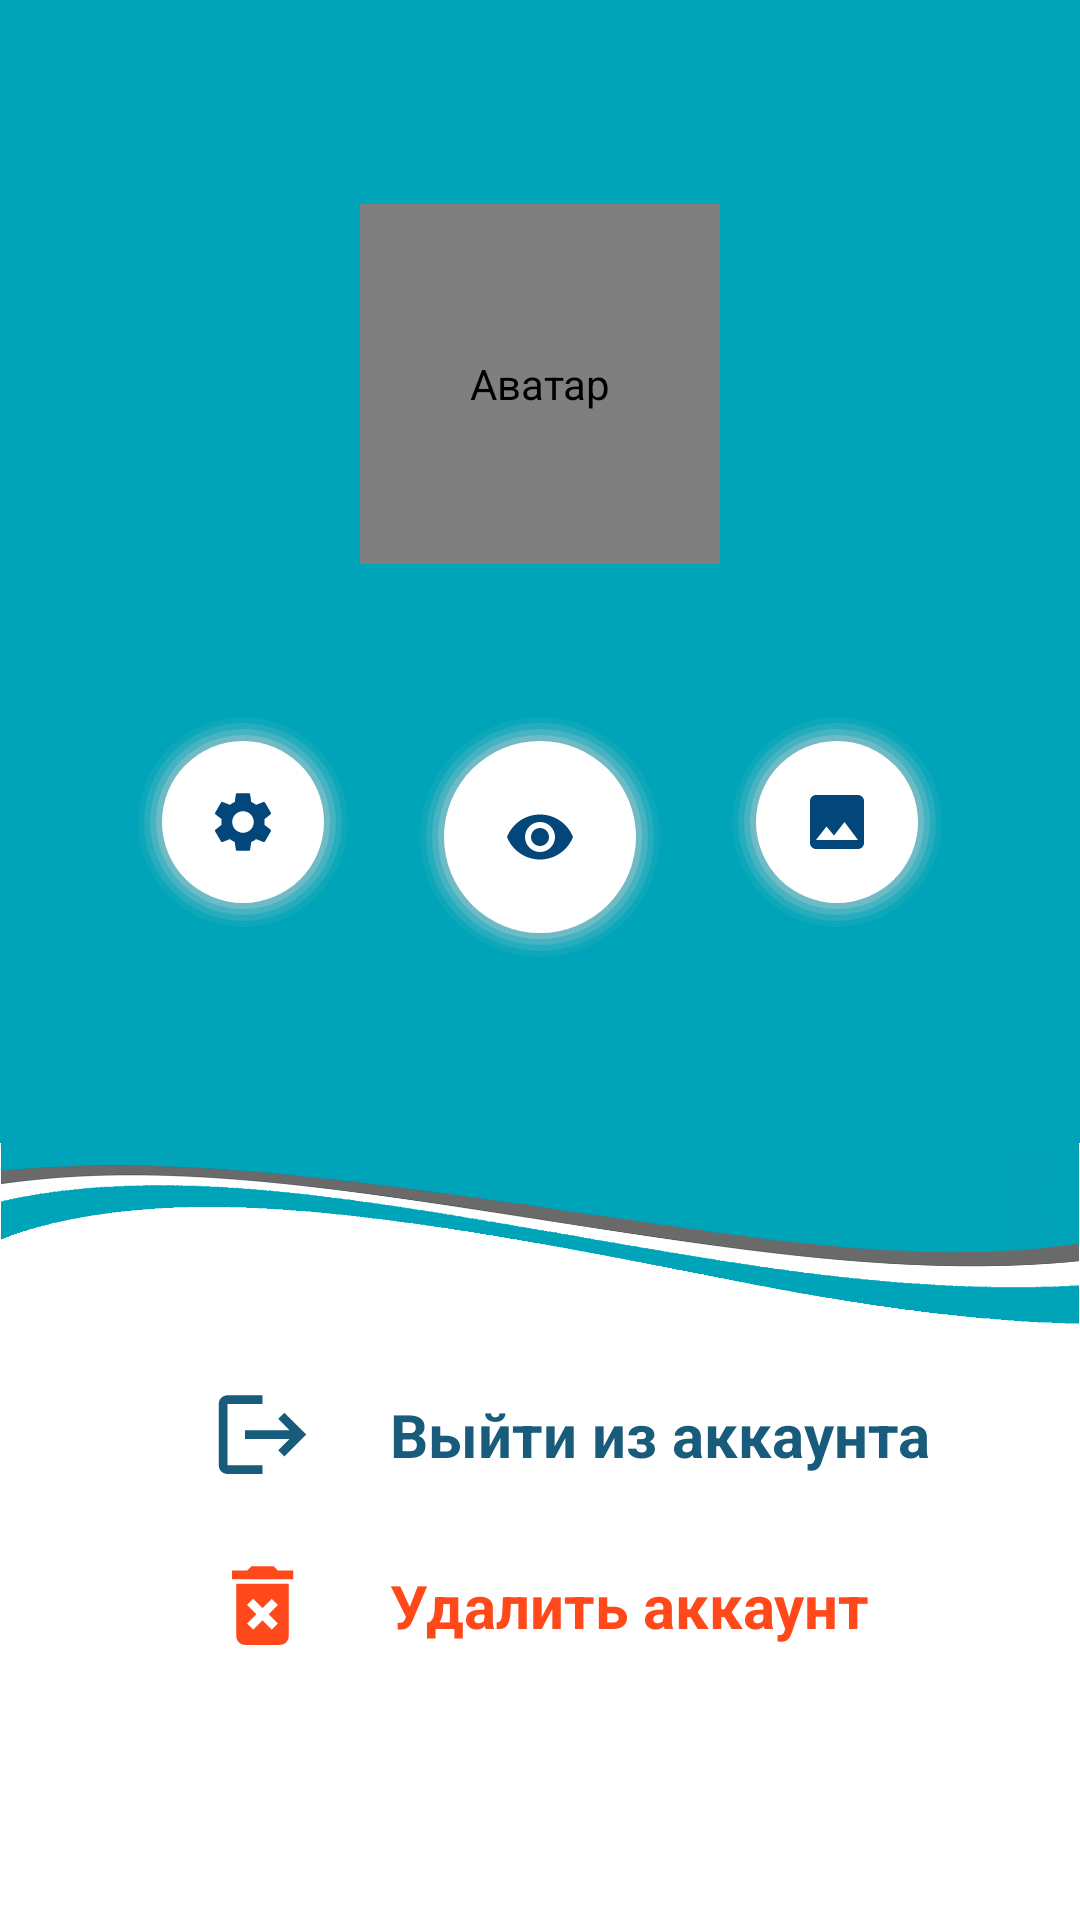

Locate icon controls on the screen. Image size 1080*1920, boxes as region(x1, y1, x2, y2).
Ваши фото: region(738, 723, 936, 921)
Как видят Вас другие пользователи: region(426, 723, 654, 951)
Настройки приложения: region(144, 723, 342, 921)
